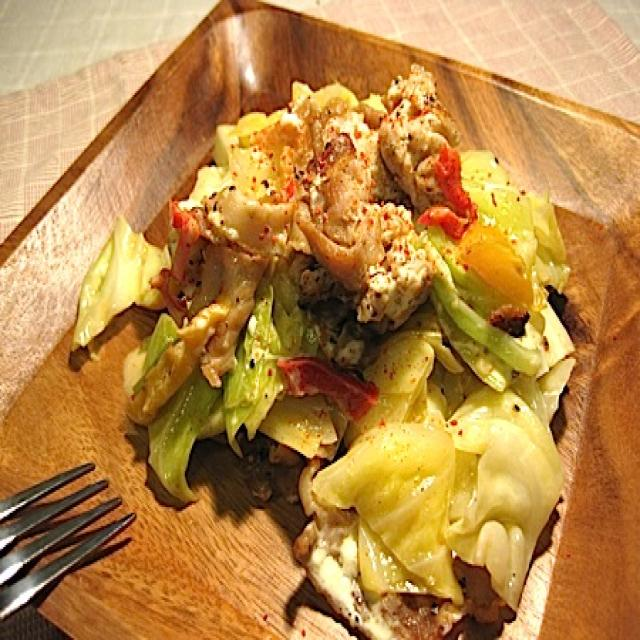蔬菜料理: (51, 45, 580, 640)
